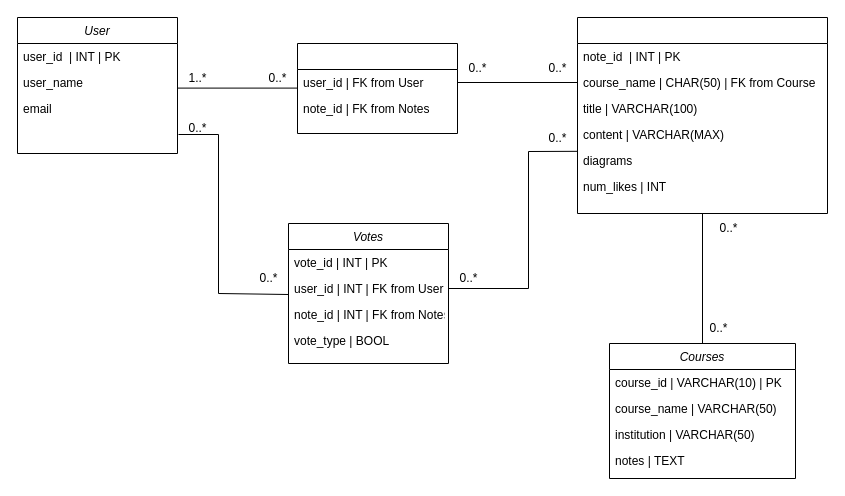
Image size: 845x496. Some labels were removed from this diagram. The box of each missing label's shape, as (x1, y1, x2, y2) in pixels:
Notes: (576, 16, 828, 214)
UserNotes: (296, 42, 458, 134)
